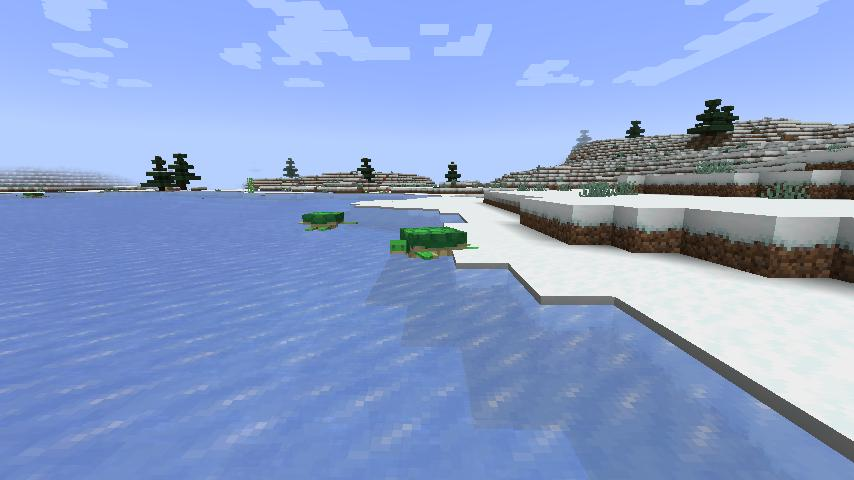turtle: (387, 222, 481, 262), (298, 208, 361, 235)
